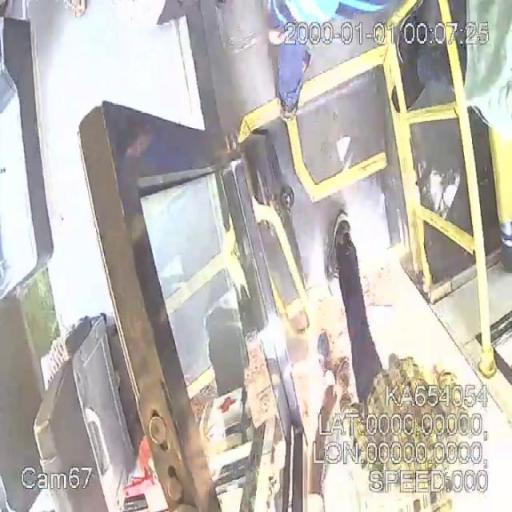persona: (316, 209, 490, 511), (270, 0, 392, 125)
